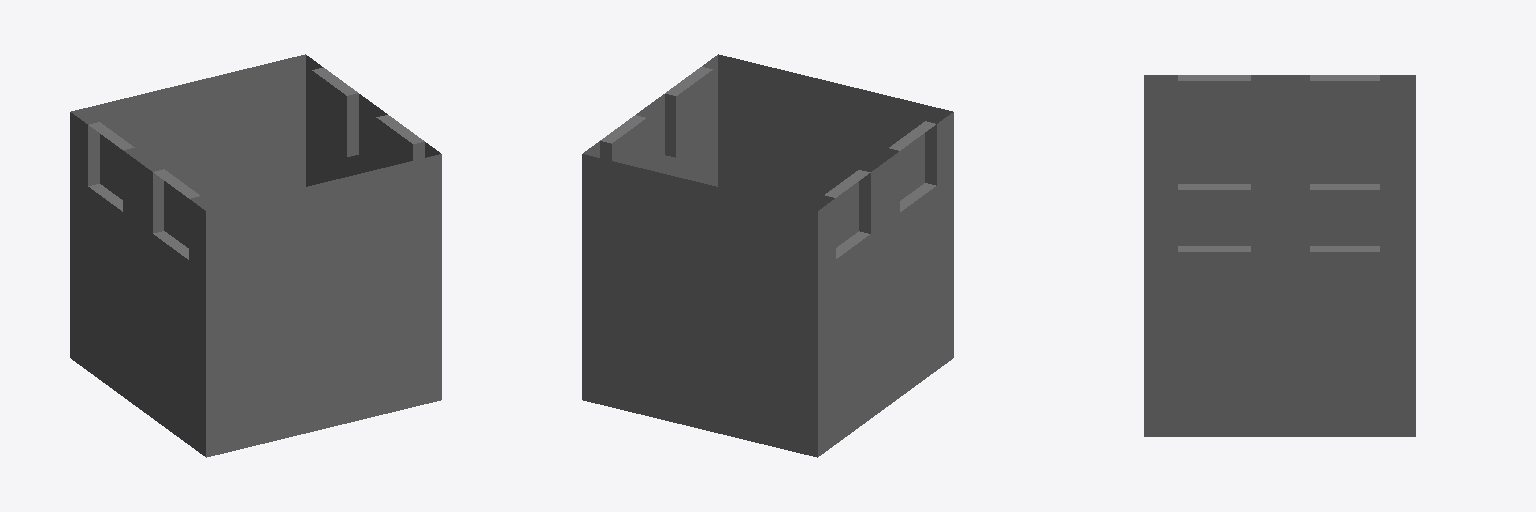
File: blockStart2.obj
3 renders of one model, left to right at view 1: azimuth 30°, elevation 25°; view 2: azimuth 150°, elevation 25°; view 3: azimuth 270°, elevation 25°, orthographic.
Visible parts, largest first — view 1: Cube_Cube.000_Cube_Cube.004; view 2: Cube_Cube.000_Cube_Cube.004; view 3: Cube_Cube.000_Cube_Cube.004.
Boxes of the visible parts, <box> form: Cube_Cube.000_Cube_Cube.004: <box>70,54,441,457</box>; Cube_Cube.000_Cube_Cube.004: <box>582,54,953,457</box>; Cube_Cube.000_Cube_Cube.004: <box>1144,75,1415,436</box>.
Bounding box in the file's own units: 10 × 10 × 10.